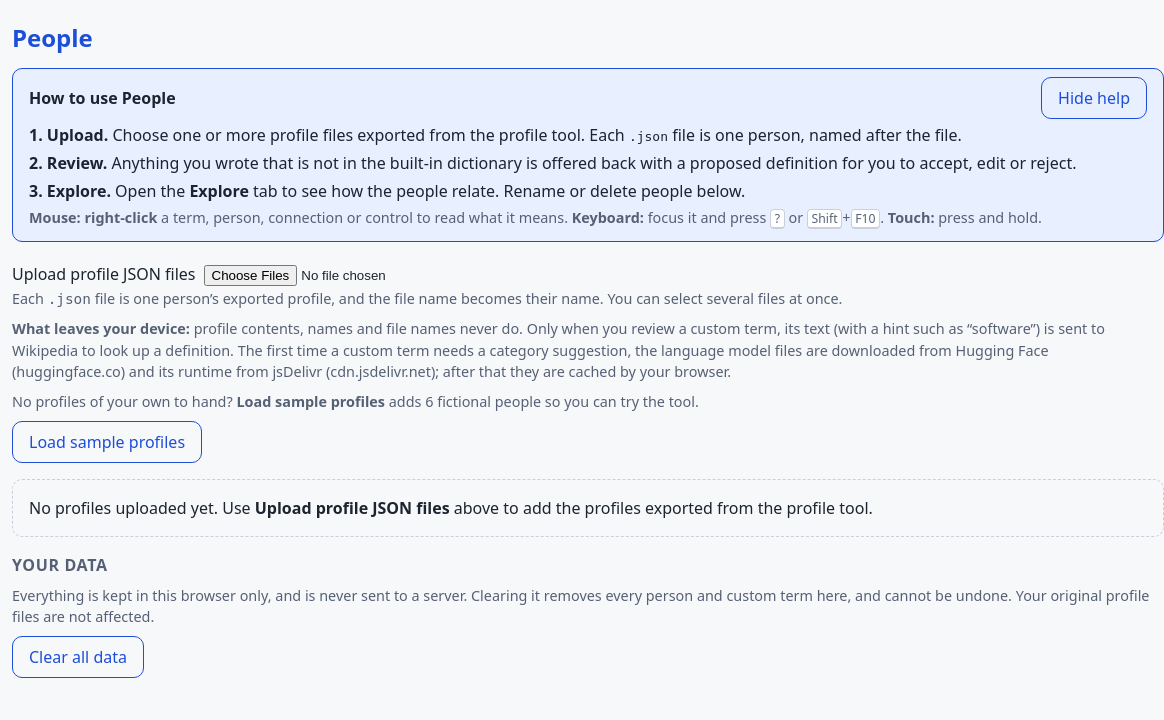
it: Clear all data › reports a failure instead of silently doing nothing
Click the button "Clear all data" at (78, 657), box [12, 636, 144, 678]
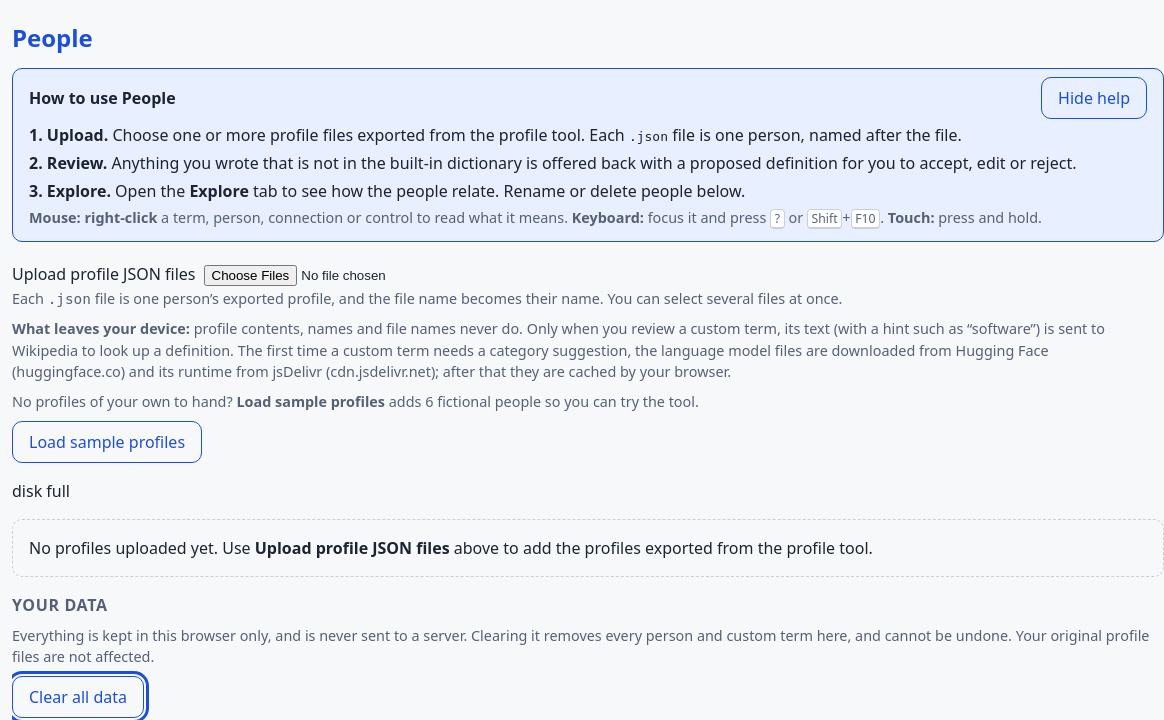
Check: the message reads "disk full", box [12, 480, 70, 502]
